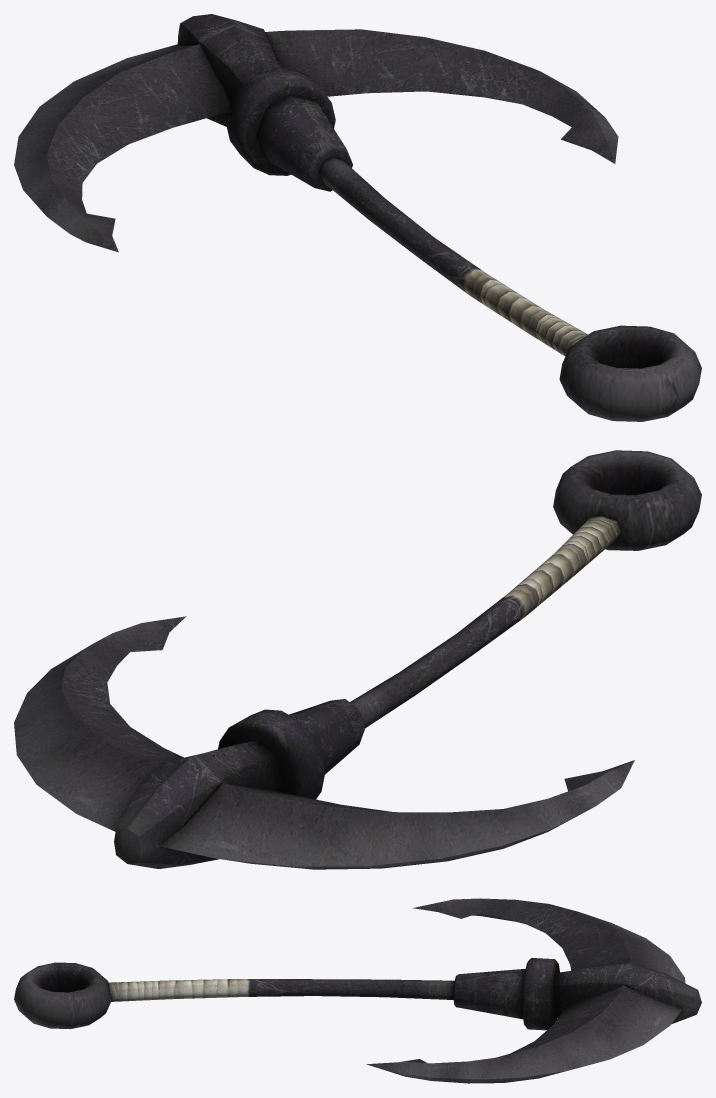
File: axe__nchor_f_sy_anchorofmay1.glb
The picture shows the model from 3 angles, top to bottom: view 1: azimuth 30°, elevation 25°; view 2: azimuth 150°, elevation 25°; view 3: azimuth 270°, elevation 25°; orthographic projection. The views are drawn at different scales.
Bounding box in the file's own units: 1.07 × 0.2008 × 1.76.
Materials: 1 (1 with a texture image).
